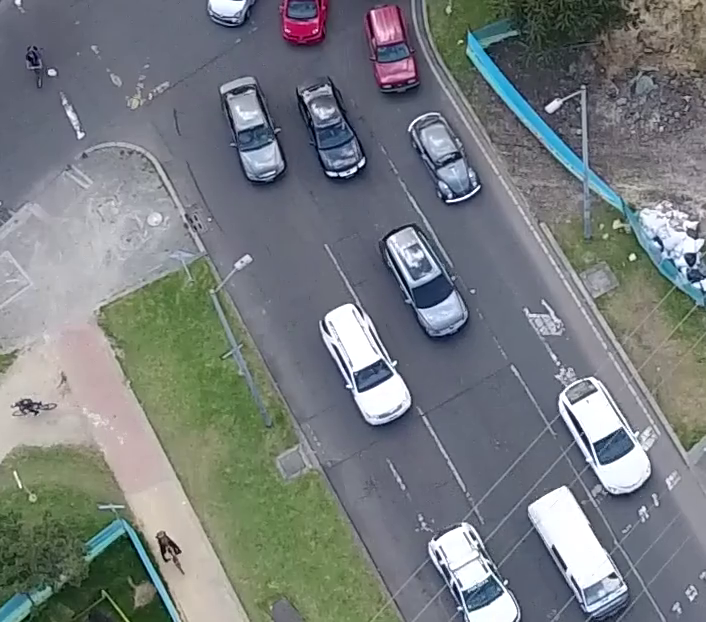car: (525, 485, 633, 619), (555, 365, 656, 497), (313, 300, 414, 430), (376, 222, 469, 342), (217, 72, 288, 191), (293, 75, 368, 185), (403, 109, 483, 210), (364, 3, 420, 95)
